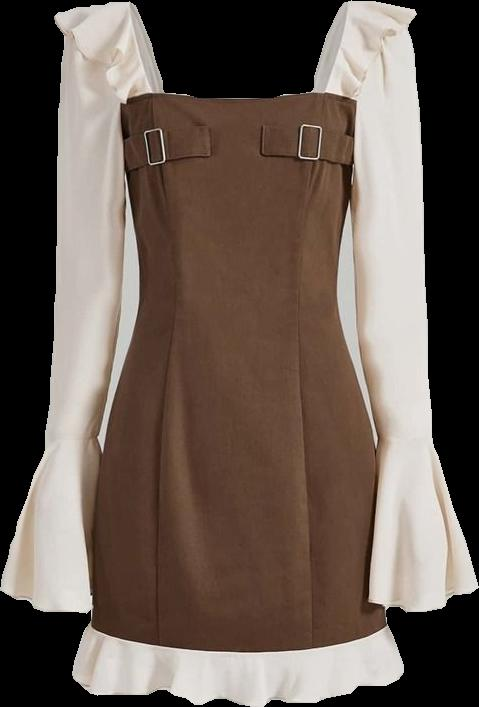Bodice: (120, 93, 356, 299)
Hemline: (69, 668, 406, 706)
Neckline: (117, 90, 362, 110)
Skirt: (73, 300, 403, 706)
Sleeve: (1, 4, 170, 614), (311, 1, 478, 611)
Sleeveline: (315, 3, 351, 95), (129, 5, 161, 94), (378, 428, 435, 446), (44, 428, 100, 445)
Waistline: (88, 621, 389, 653), (54, 14, 130, 108), (346, 13, 416, 98)
